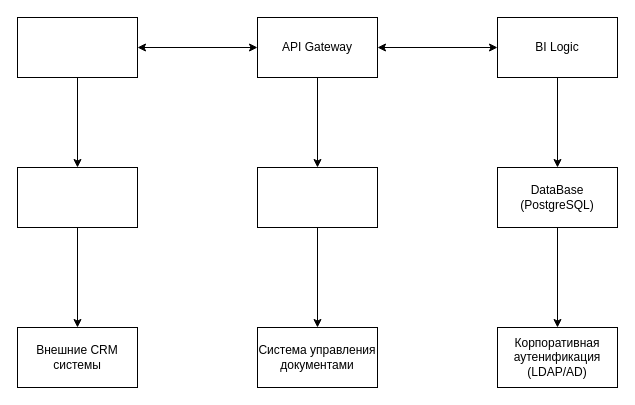
This 635x405 diagram has some shape labels left out. Here are the shapes that lost their labels. From the top down, the centre of each, then its label:
At point 77,47: "UI".
At point 77,197: "Аутентификация и авторизация".
At point 317,197: "Внешние модули".
